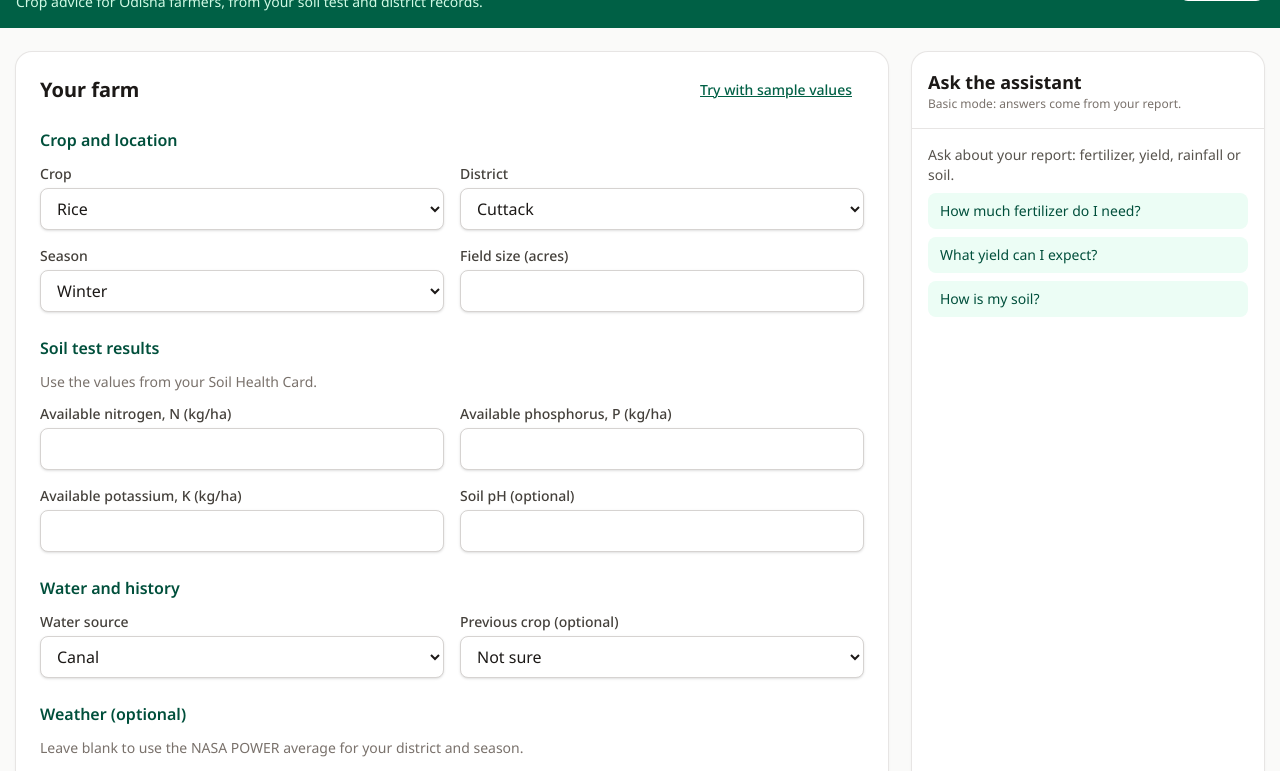
Test: farm report › suggests seasons with data when there is no forecast
What coordinates should you click on to do the following:
click the button "Try with sample values"
I would click on:
 (776, 90)
Its box is [688,76,864,104].
(page scrolled)
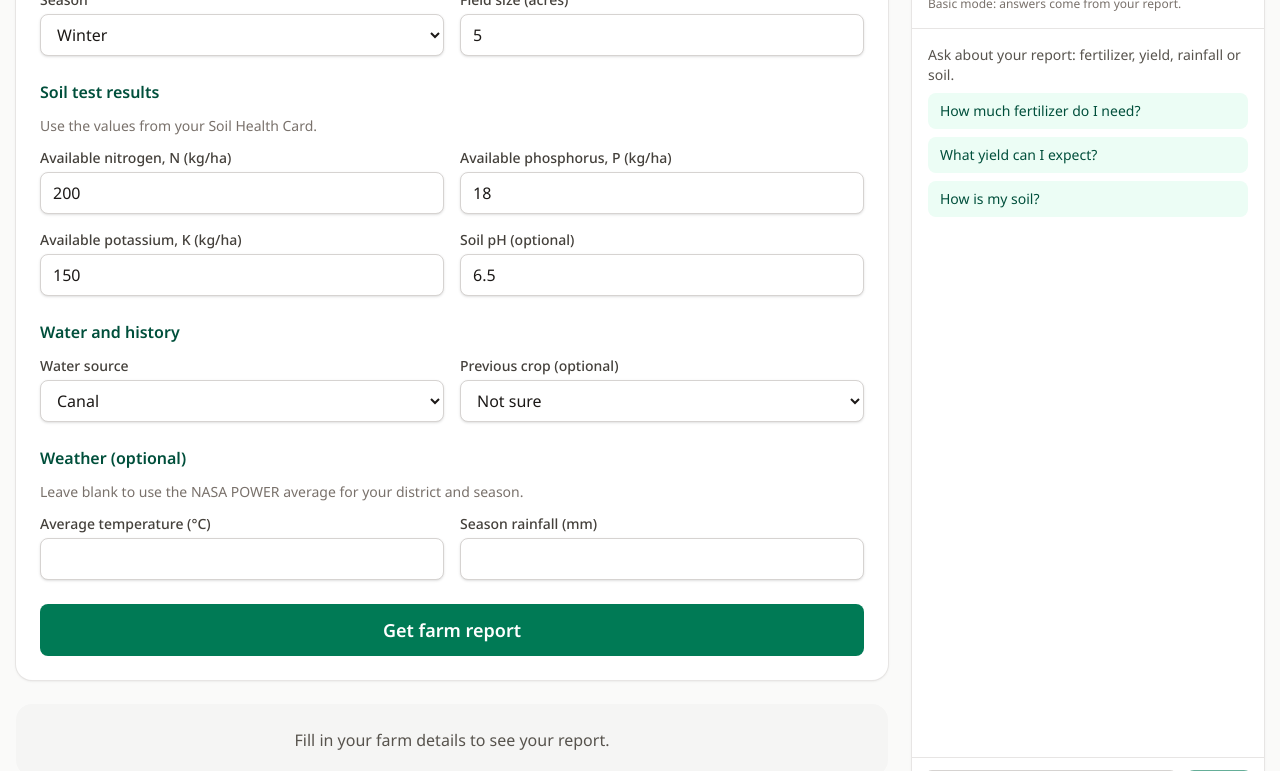
What coordinates should you click on to do the following:
click the button "Get farm report"
I would click on:
 (452, 630)
Its box is [40,604,864,656].
(page scrolled)
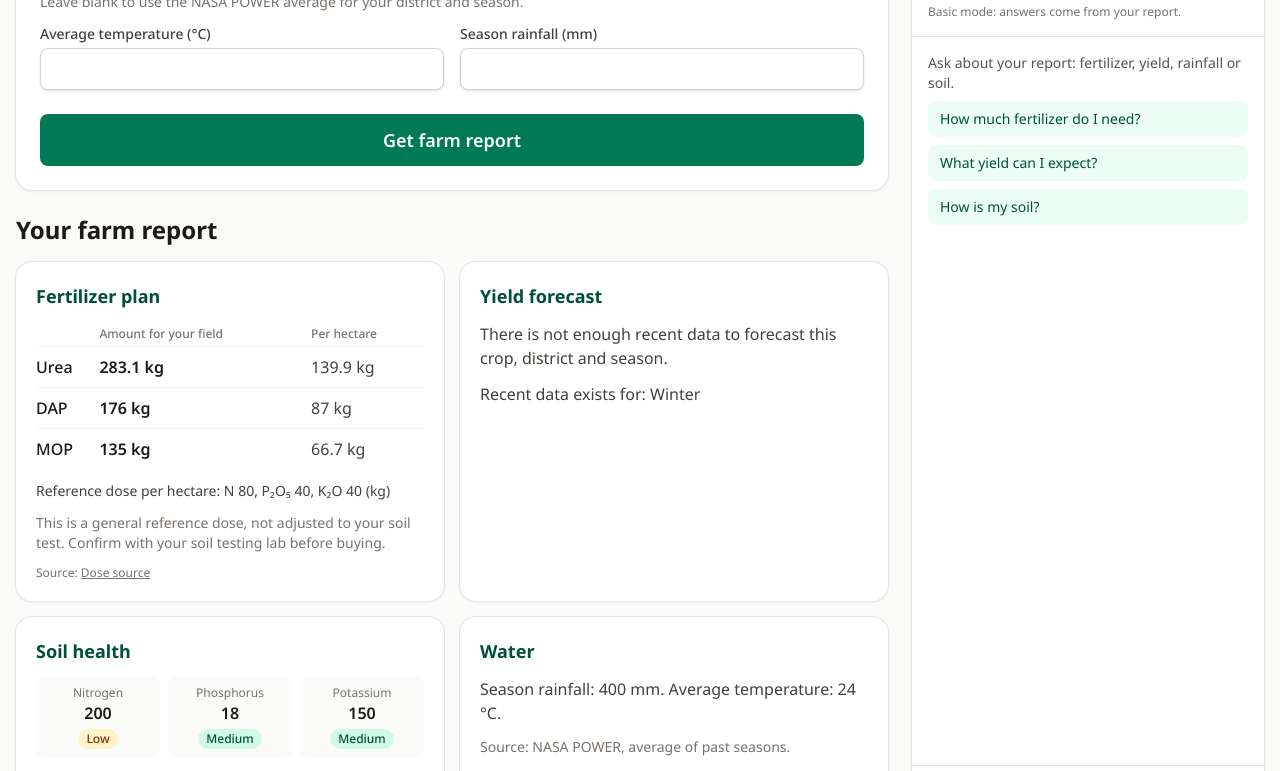
Result: the text "Recent data exists for: Winter" is shown at [480,383,700,405]
